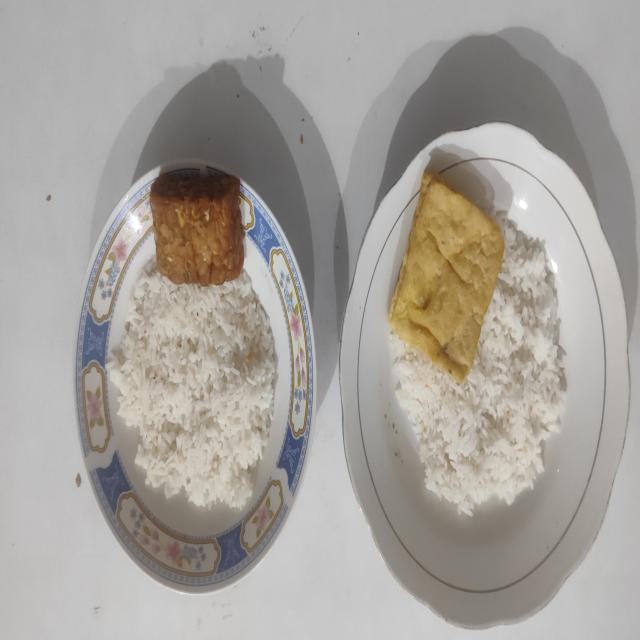nasi_putih: (391, 211, 567, 514), (109, 254, 278, 508)
tahu_goreng: (389, 173, 504, 383)
tempe_goreng: (150, 168, 246, 286)
